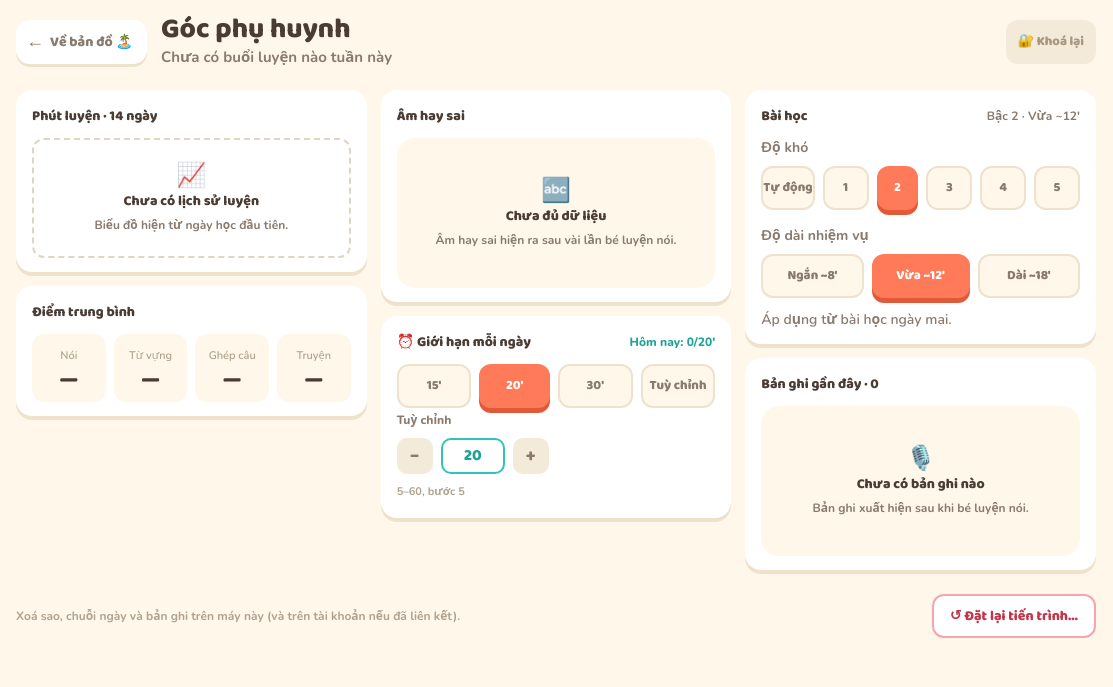
Test case: ParentDashboard › toggling "Tự động" back on resumes auto mode from the current band value
Click the button "Tự động": click(788, 188) x1=761 y1=166 x2=815 y2=210
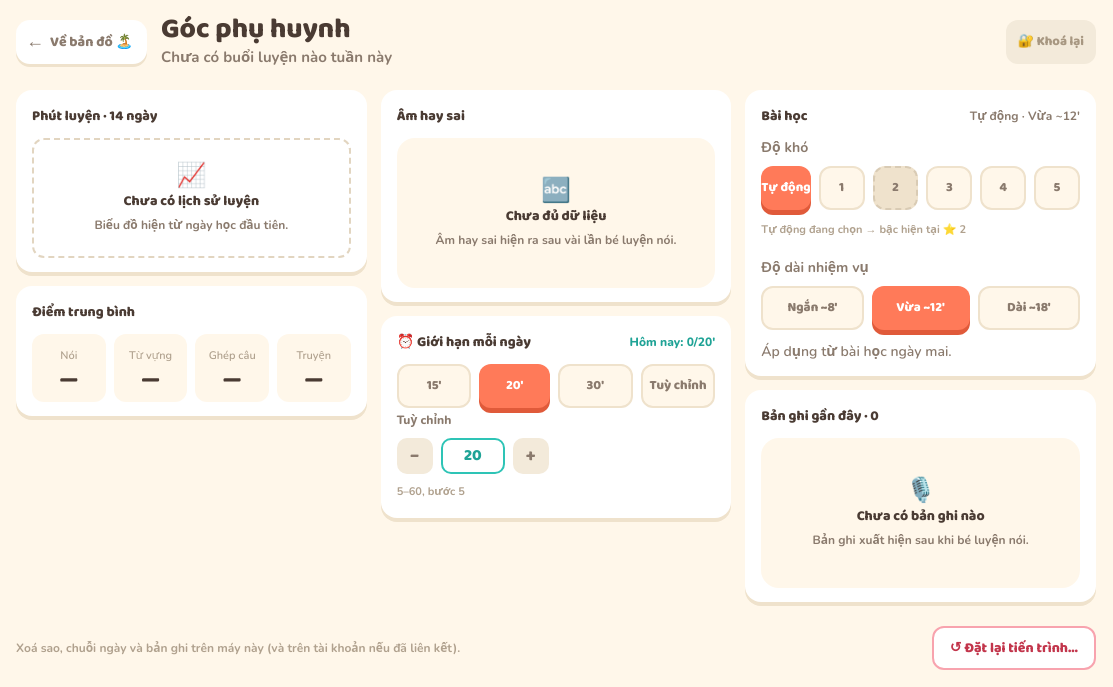
Now the text "Tự động đang chọn → bậc hiện tại ⭐ 2" is shown, box x1=761 y1=222 x2=966 y2=237
